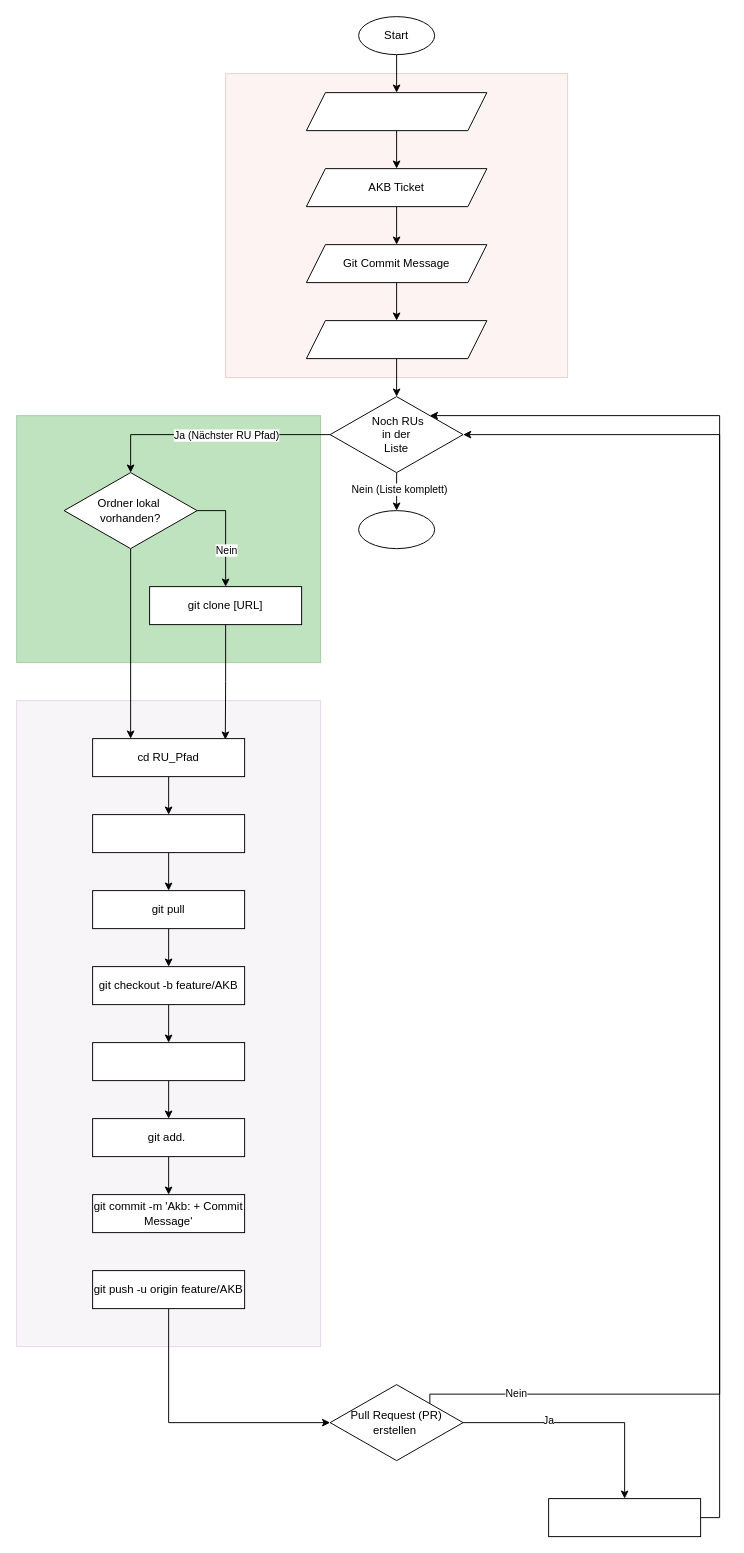
The diagram is 744 pixels wide and 1553 high, and some of its shapes have lost their labels. Here are the shapes that lost their labels. From the top down, the centre of each, then its label:
the point at 396,111: Liste von RUs
the point at 396,339: Code, welcher verändert werden muss
the point at 396,529: Ende
the point at 168,833: git checkout master
the point at 168,1061: Führe 'Change_Code' aus
the point at 624,1517: Erstelle Pull Request (PR)
